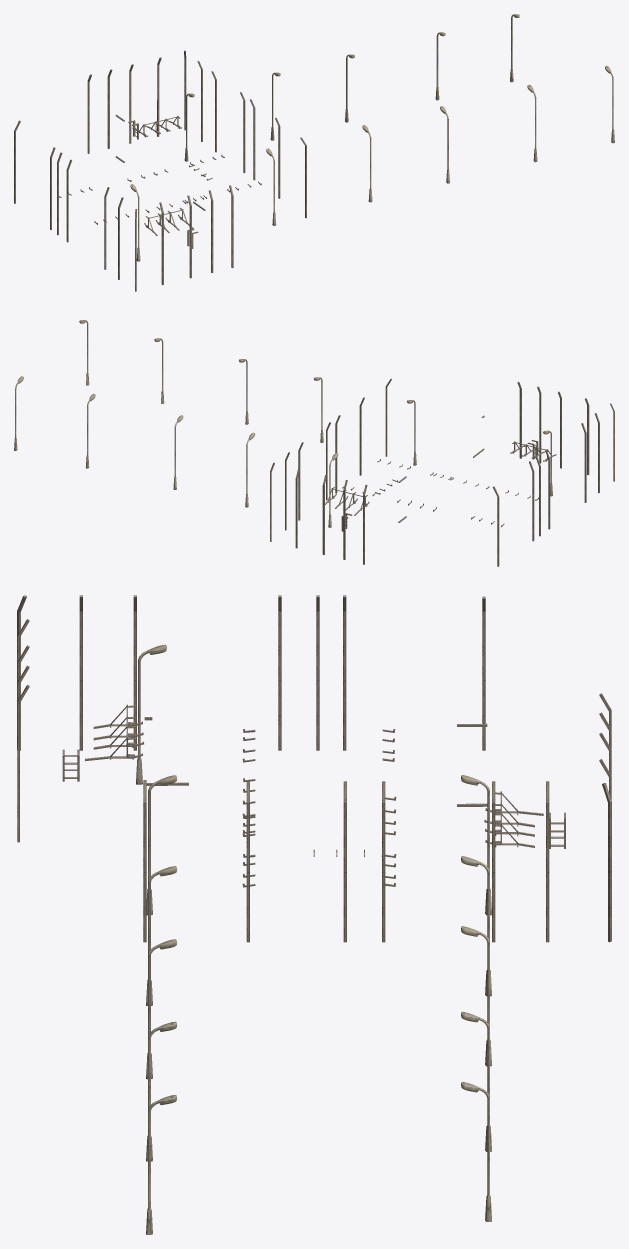
The picture shows the model from 3 angles, top to bottom: view 1: azimuth 30°, elevation 25°; view 2: azimuth 150°, elevation 25°; view 3: azimuth 270°, elevation 25°; orthographic projection. The views are drawn at different scales.
Visible parts, largest first — view 1: SM_HK_02_02; view 2: SM_HK_02_02; view 3: SM_HK_02_02.
Boxes of the visible parts, <box> form: SM_HK_02_02: <box>14,14,614,291</box>; SM_HK_02_02: <box>14,320,614,566</box>; SM_HK_02_02: <box>17,595,611,1234</box>.
Size of the model in its own units: 9583 by 1462 by 4967.
